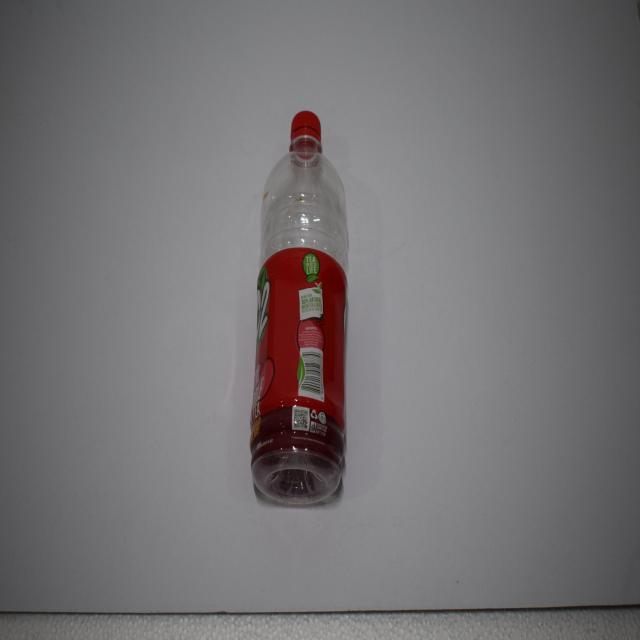bottle: (247, 95, 356, 527)
